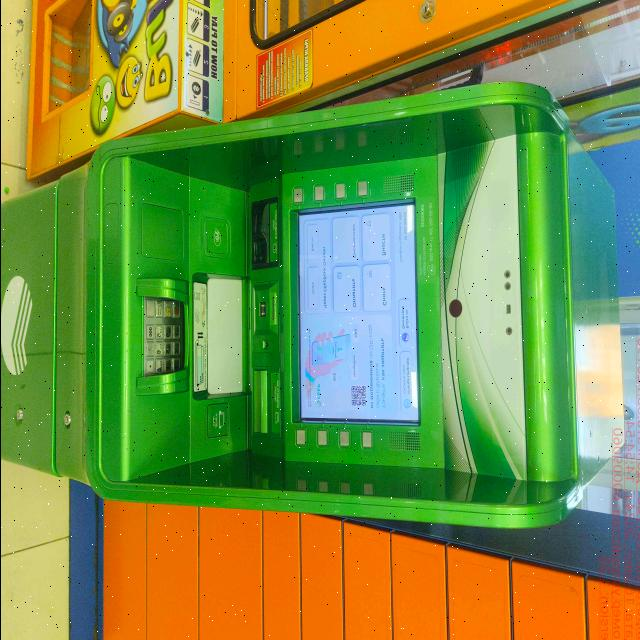bank: (0, 78, 623, 535)
